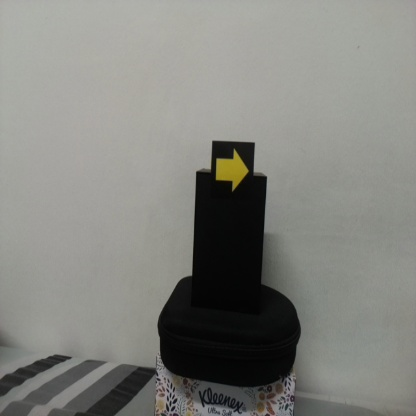id_3: (213, 141, 255, 196)
